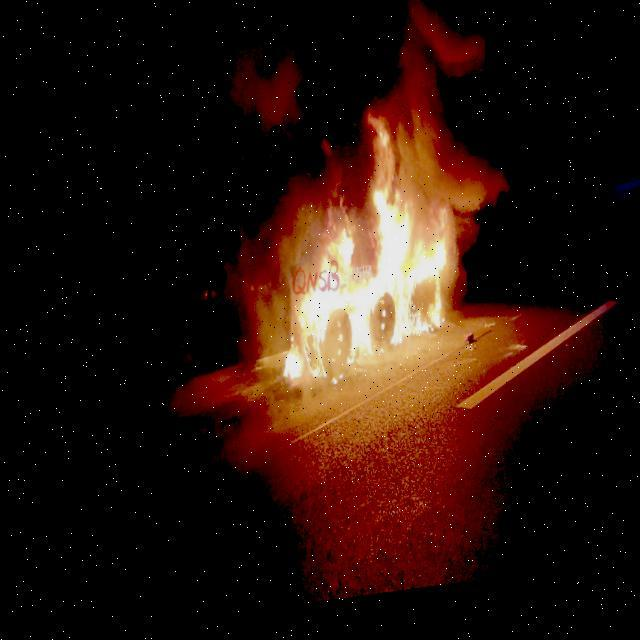Fire: (276, 154, 452, 402)
